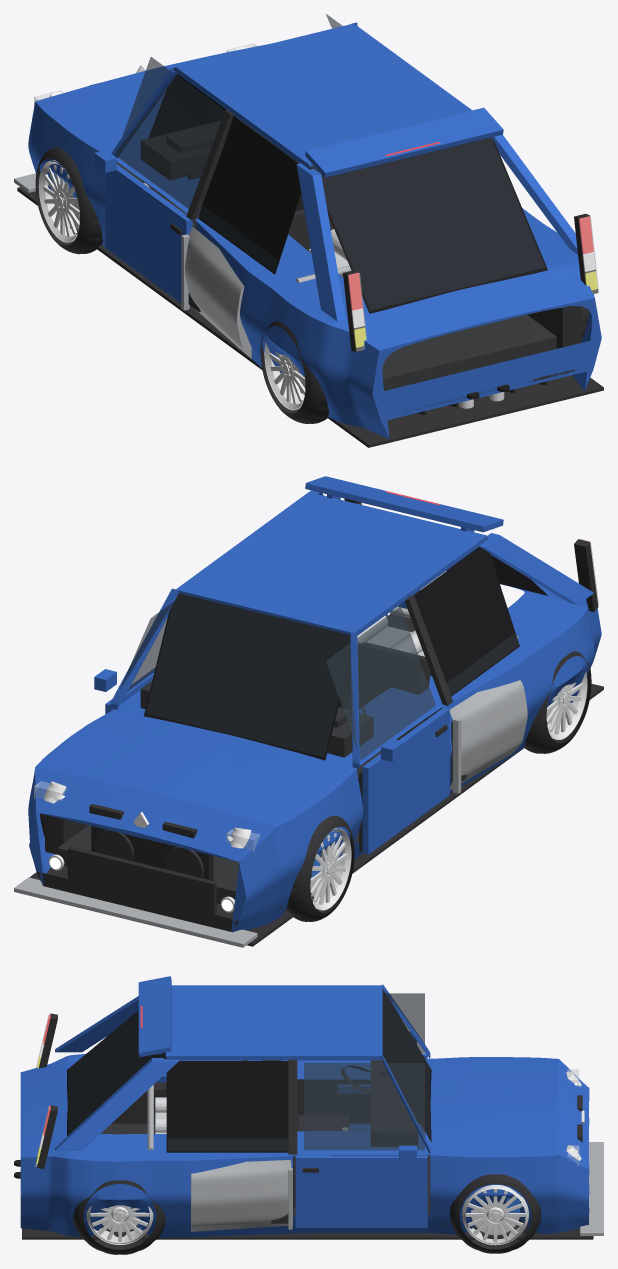
File: Car_Renault_Clio_V6_Phase2_2000s.opt.glb
3 renders of one model, top to bottom at view 1: azimuth 30°, elevation 25°; view 2: azimuth 150°, elevation 25°; view 3: azimuth 270°, elevation 25°, orthographic. The views are drawn at different scales.
Parts seen in each view (by area): view 1: object 1, object 8, DOOR_FL_ClioV6_WindowGlass, DOOR_FL_ClioV6, WHEEL_FL_OZSuperturismo, INTERIOR_ClioV6_CockpitAndSeats, WHEEL_RL_OZSuperturismo, object 10; view 2: object 1, object 8, DOOR_FL_ClioV6_WindowGlass, DOOR_FL_ClioV6, INTERIOR_ClioV6_CockpitAndSeats, WHEEL_FL_OZSuperturismo, object 10, WHEEL_RL_OZSuperturismo, DOOR_FR_ClioV6_WindowGlass, DOOR_FR_ClioV6; view 3: object 1, object 8, DOOR_FR_ClioV6_WindowGlass, DOOR_FR_ClioV6, WHEEL_FR_OZSuperturismo, INTERIOR_ClioV6_CockpitAndSeats, WHEEL_RR_OZSuperturismo, DOOR_FL_ClioV6_InnerCard, object 10, DOOR_FL_ClioV6_WindowGlass.
Part boxes in pixels (bbox=[...]): object 1: bbox=[14, 22, 603, 447]; object 8: bbox=[148, 24, 547, 313]; DOOR_FL_ClioV6_WindowGlass: bbox=[116, 57, 224, 208]; DOOR_FL_ClioV6: bbox=[94, 150, 192, 306]; WHEEL_FL_OZSuperturismo: bbox=[35, 147, 102, 254]; INTERIOR_ClioV6_CockpitAndSeats: bbox=[141, 117, 333, 250]; WHEEL_RL_OZSuperturismo: bbox=[260, 321, 328, 423]; object 10: bbox=[34, 43, 598, 408]; object 1: bbox=[14, 476, 603, 947]; object 8: bbox=[144, 538, 547, 760]; DOOR_FL_ClioV6_WindowGlass: bbox=[326, 606, 435, 759]; DOOR_FL_ClioV6: bbox=[362, 707, 449, 854]; INTERIOR_ClioV6_CockpitAndSeats: bbox=[140, 642, 442, 783]; WHEEL_FL_OZSuperturismo: bbox=[286, 815, 354, 921]; object 10: bbox=[34, 503, 598, 912]; WHEEL_RL_OZSuperturismo: bbox=[524, 651, 591, 753]; DOOR_FR_ClioV6_WindowGlass: bbox=[120, 601, 174, 691]; DOOR_FR_ClioV6: bbox=[94, 668, 154, 714]; object 1: bbox=[20, 976, 603, 1239]; object 8: bbox=[67, 989, 431, 1152]; DOOR_FR_ClioV6_WindowGlass: bbox=[304, 1063, 424, 1150]; DOOR_FR_ClioV6: bbox=[295, 1145, 427, 1228]; WHEEL_FR_OZSuperturismo: bbox=[449, 1174, 541, 1253]; INTERIOR_ClioV6_CockpitAndSeats: bbox=[242, 1060, 417, 1206]; WHEEL_RR_OZSuperturismo: bbox=[73, 1180, 165, 1254]; DOOR_FL_ClioV6_InnerCard: bbox=[297, 1079, 419, 1123]; object 10: bbox=[14, 1014, 584, 1178]; DOOR_FL_ClioV6_WindowGlass: bbox=[386, 993, 424, 1052].
Size of what is drawn, in the model's own units: 1.87 by 1.42 by 3.94.
